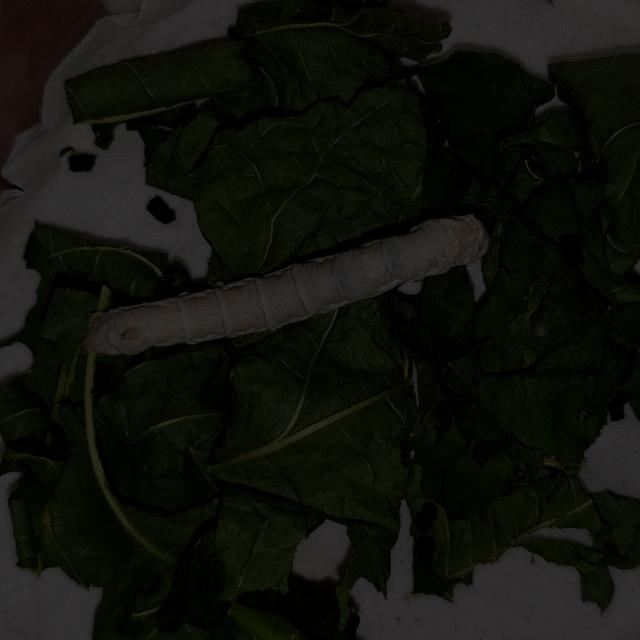Healthy: (51, 182, 514, 436)
